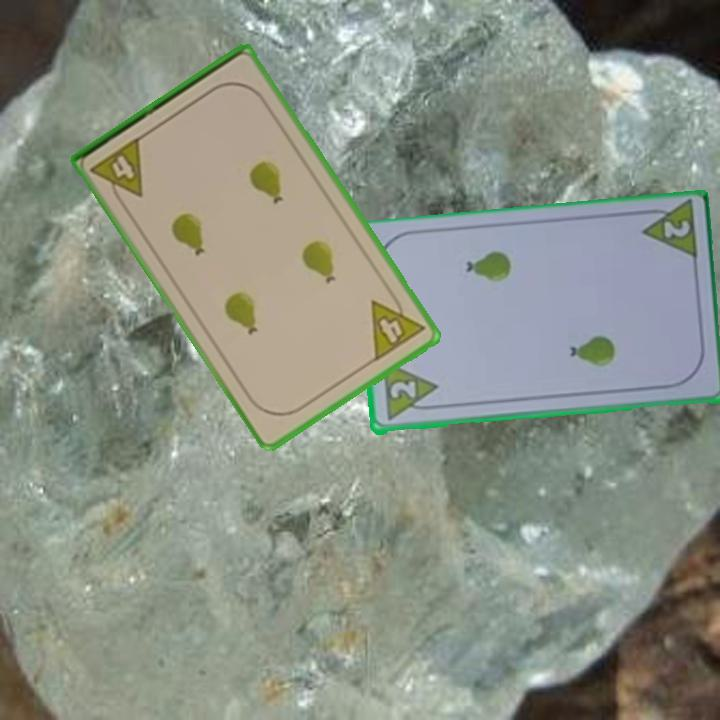2p: (635, 199, 700, 264), (378, 360, 442, 424)
4p: (367, 285, 428, 365), (87, 133, 147, 210)
